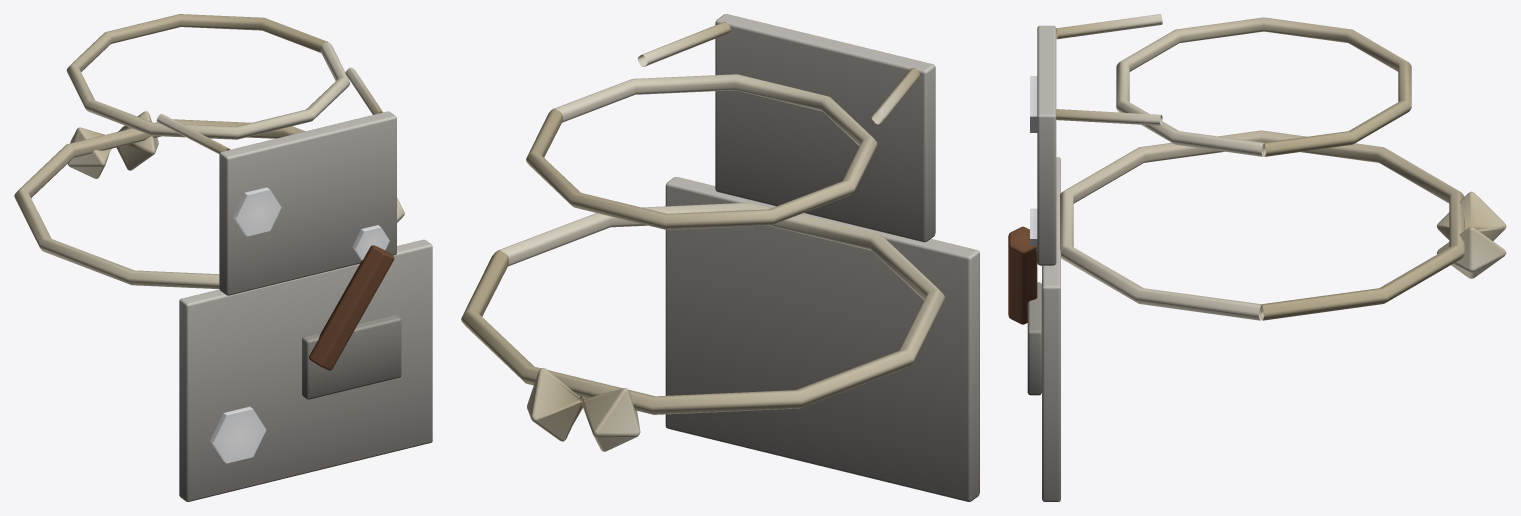
File: lg_ashen_apron.glb
3 renders of one model, left to right at view 1: azimuth 30°, elevation 25°; view 2: azimuth 150°, elevation 25°; view 3: azimuth 270°, elevation 25°, orthographic. The views are drawn at different scales.
Parts seen in each view (by area): view 1: lg_ashen_apron, lg_ashen_apron_trim; view 2: lg_ashen_apron; view 3: lg_ashen_apron, lg_ashen_apron_trim.
Boxes of the visible parts, bbox=[...] form: lg_ashen_apron: bbox=[14, 14, 432, 501]; lg_ashen_apron_trim: bbox=[210, 187, 389, 463]; lg_ashen_apron: bbox=[461, 14, 979, 501]; lg_ashen_apron: bbox=[1008, 14, 1506, 501]; lg_ashen_apron_trim: bbox=[1030, 76, 1037, 251].
Size of the model in its own units: 1.79 by 1.73 by 2.09.
